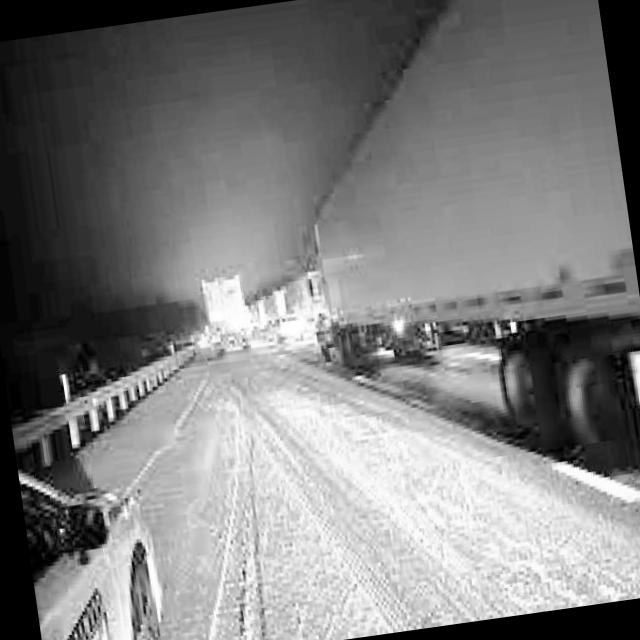Truck: (270, 0, 640, 535)
